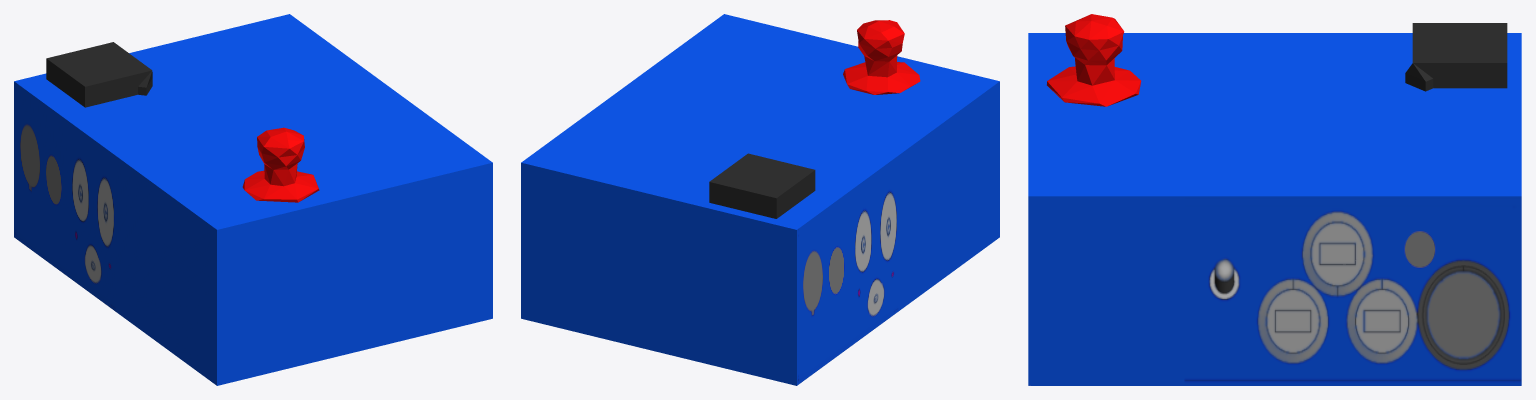
Rendered from top_box_2021_ladybug.dae.
3 renders of one model, left to right at view 1: azimuth 30°, elevation 25°; view 2: azimuth 150°, elevation 25°; view 3: azimuth 270°, elevation 25°, orthographic. The views are drawn at different scales.
Parts seen in each view (by area): view 1: Top_Box; view 2: Top_Box; view 3: Top_Box.
Boxes of the visible parts, <box> form: Top_Box: <box>14,14,492,385</box>; Top_Box: <box>521,14,999,385</box>; Top_Box: <box>1028,14,1521,385</box>.
Size of the model in its own units: 0.1803 by 0.23 by 0.1326.
Materials: 1 (1 with a texture image).
